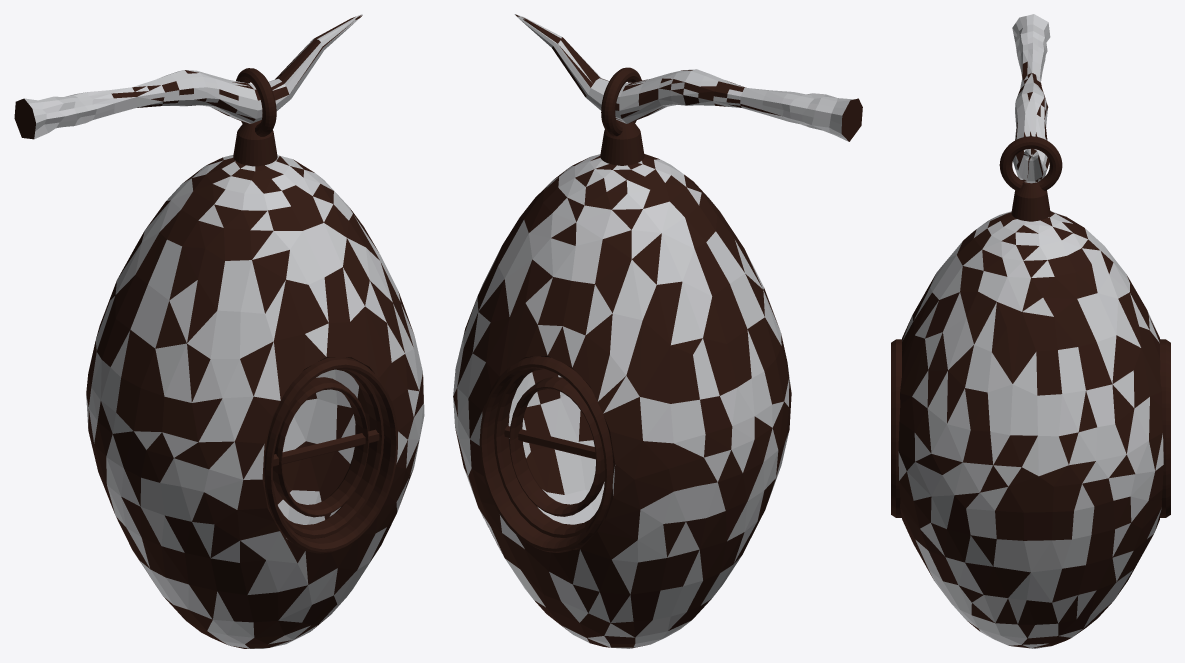
Rendered from TreeHooose.fbx.
3 views of the same model, side by side, from view 1: azimuth 30°, elevation 25°; view 2: azimuth 150°, elevation 25°; view 3: azimuth 270°, elevation 25° (orthographic). The views are drawn at different scales.
Parts seen in each view (by area): view 1: TreehouseBody, Branch, Window.002, TreehouseConnceter, TreehouseHook; view 2: TreehouseBody, Branch, Window.003, TreehouseConnceter, TreehouseHook; view 3: TreehouseBody, Branch, TreehouseHook, TreehouseConnceter.
Part boxes in pixels (left/top/right/bottom): TreehouseBody: left=86, top=155, right=424, bottom=648; Branch: left=14, top=14, right=362, bottom=139; Window.002: left=273, top=369, right=384, bottom=538; TreehouseConnceter: left=233, top=120, right=277, bottom=166; TreehouseHook: left=236, top=68, right=276, bottom=136; TreehouseBody: left=453, top=154, right=791, bottom=648; Branch: left=514, top=14, right=862, bottom=141; Window.003: left=494, top=368, right=604, bottom=537; TreehouseConnceter: left=600, top=119, right=644, bottom=165; TreehouseHook: left=601, top=67, right=641, bottom=136; TreehouseBody: left=891, top=211, right=1170, bottom=648; Branch: left=1012, top=14, right=1050, bottom=183; TreehouseHook: left=999, top=136, right=1062, bottom=190; TreehouseConnceter: left=1011, top=181, right=1050, bottom=221.
Bounding box in the file's own units: 2.54 × 3.87 × 1.85.
